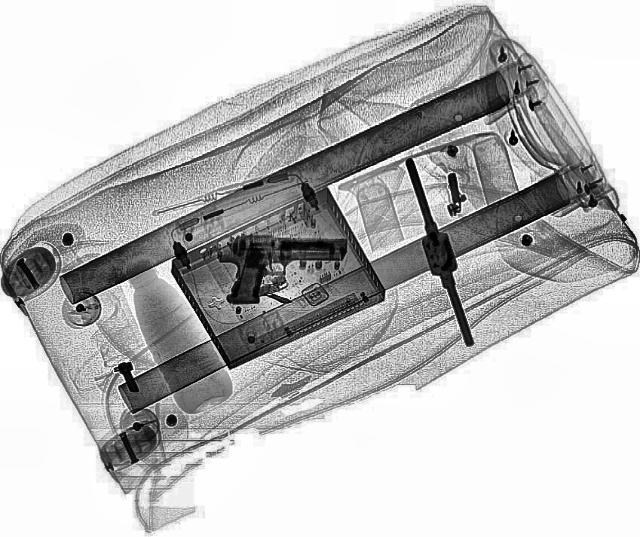Gun: (215, 232, 348, 308)
